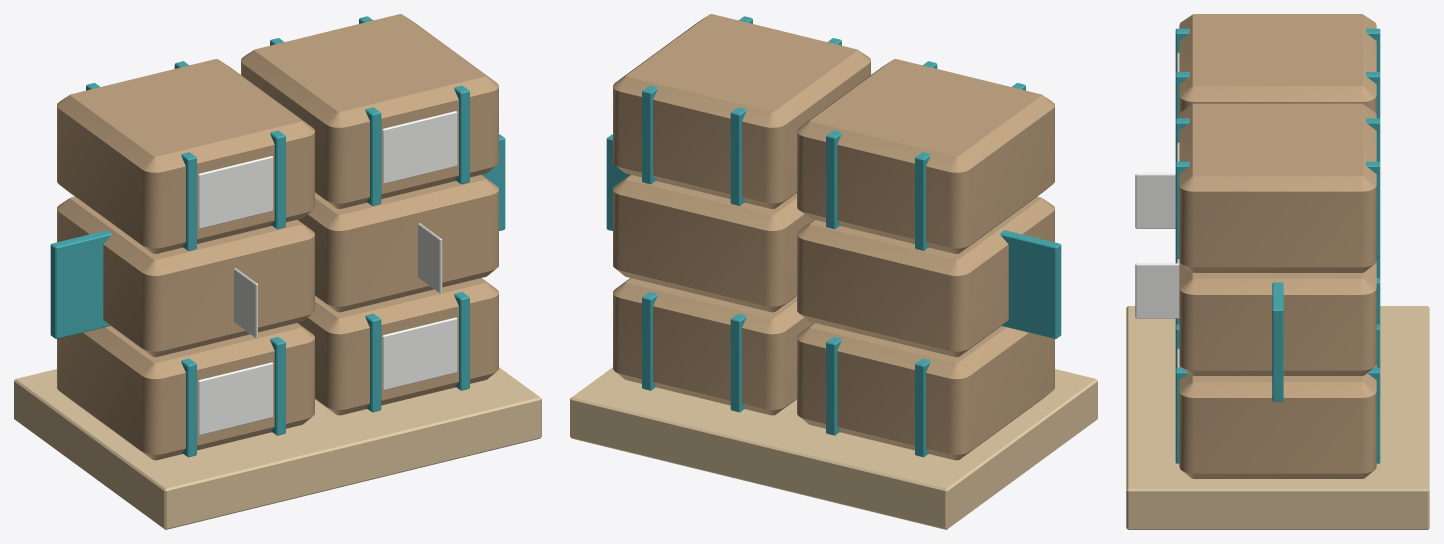
The model's file is pet-shop-and-grooming-salon-bedding-bale-stack-cf3fb26c__34589.glb.
3 renders of one model, left to right at view 1: azimuth 30°, elevation 25°; view 2: azimuth 150°, elevation 25°; view 3: azimuth 270°, elevation 25°, orthographic.
Visible parts, largest first — view 1: bedding-bale-stack; view 2: bedding-bale-stack; view 3: bedding-bale-stack.
Boxes of the visible parts, <box> form: bedding-bale-stack: <box>14,14,541,529</box>; bedding-bale-stack: <box>570,14,1097,529</box>; bedding-bale-stack: <box>1126,14,1429,529</box>.
Size of the model in its own units: 1.37 by 1 by 0.8.
